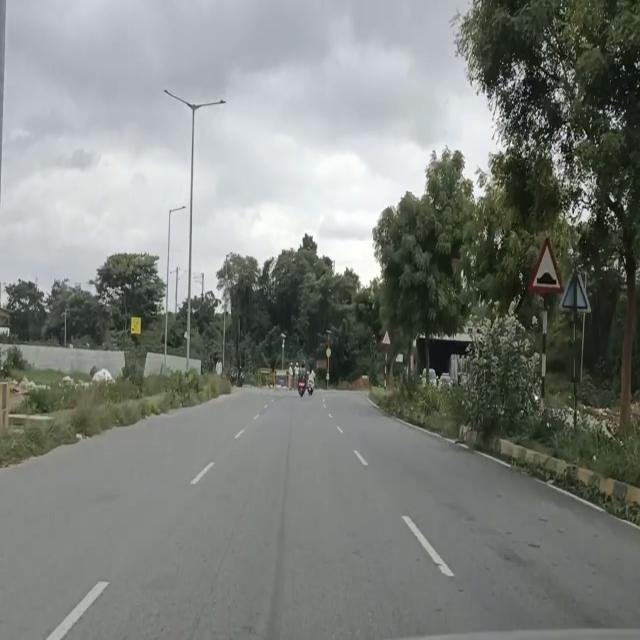bien_cam: (528, 232, 564, 296), (382, 328, 392, 348)
